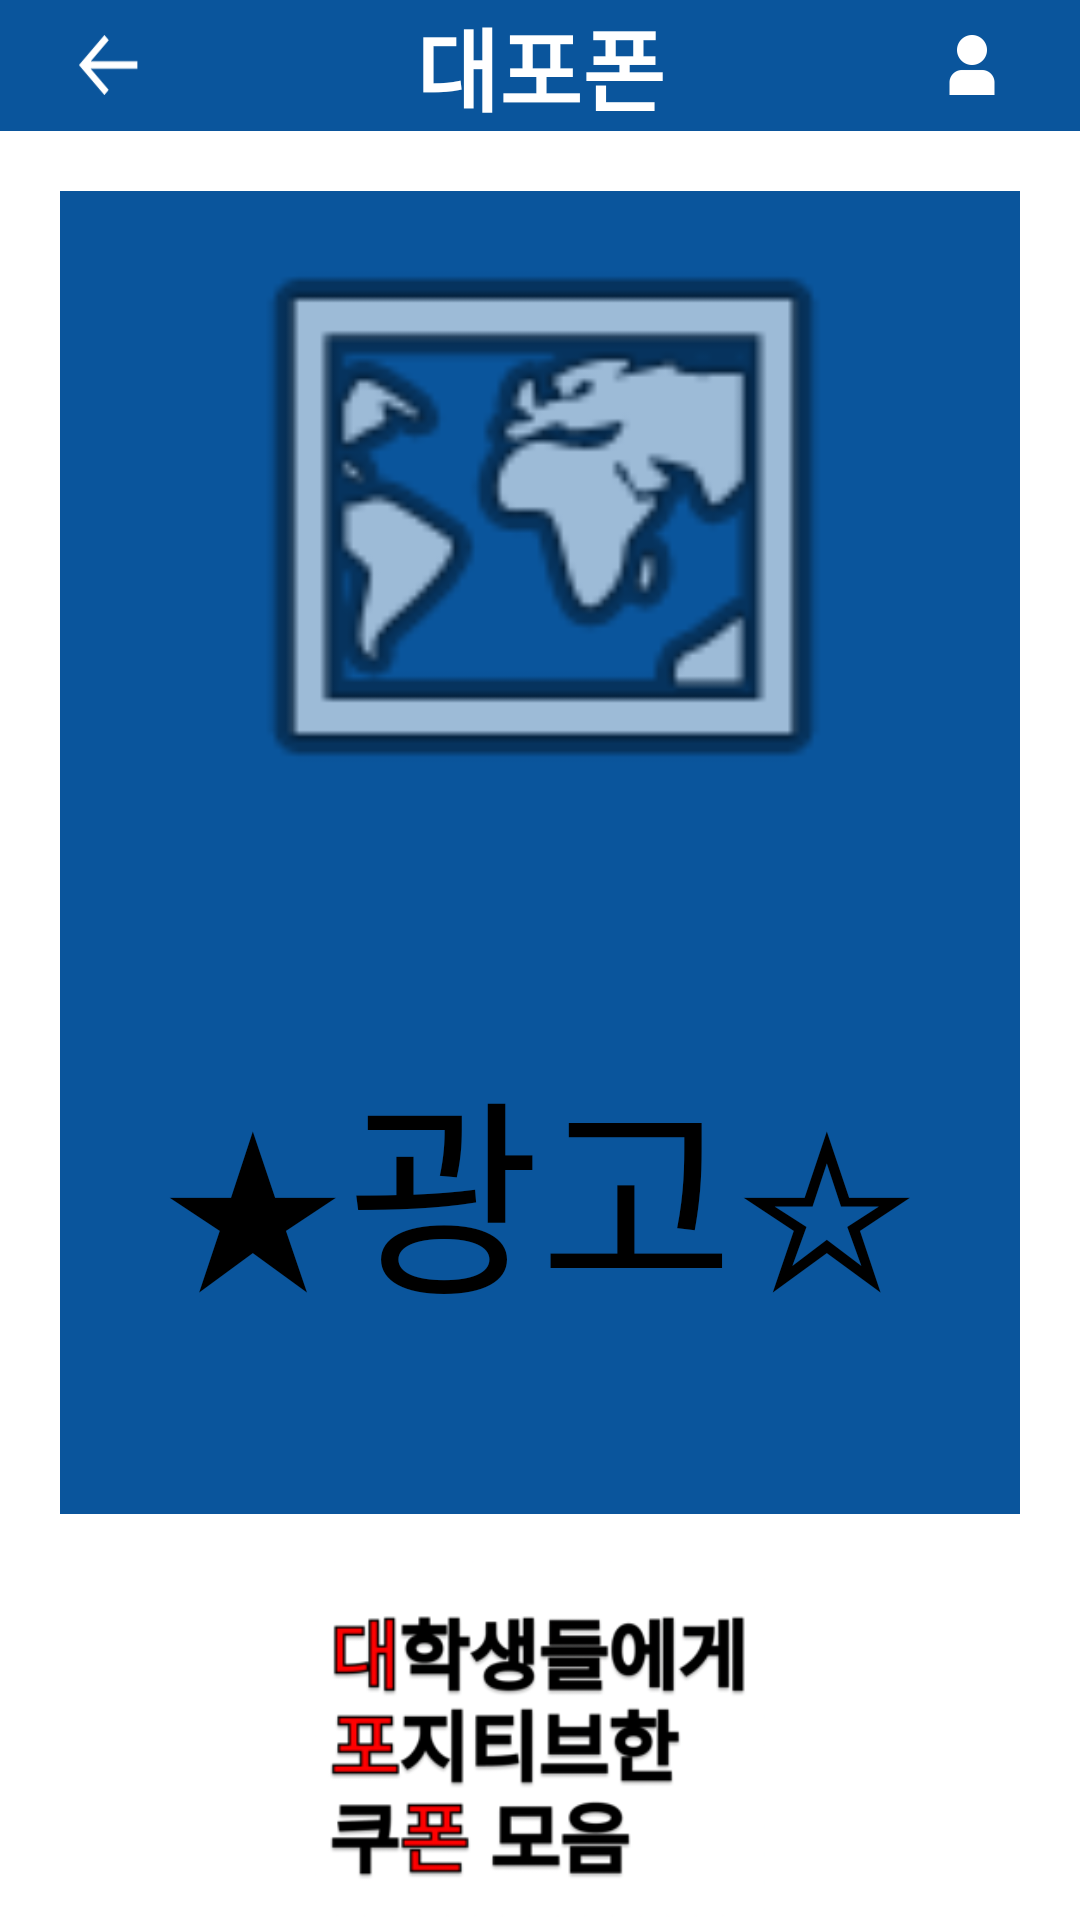

Icon click points for this 1080*1920 phone screenshot, format (x,y):
back arrow resize: (108,65)
user resize: (972,65)
